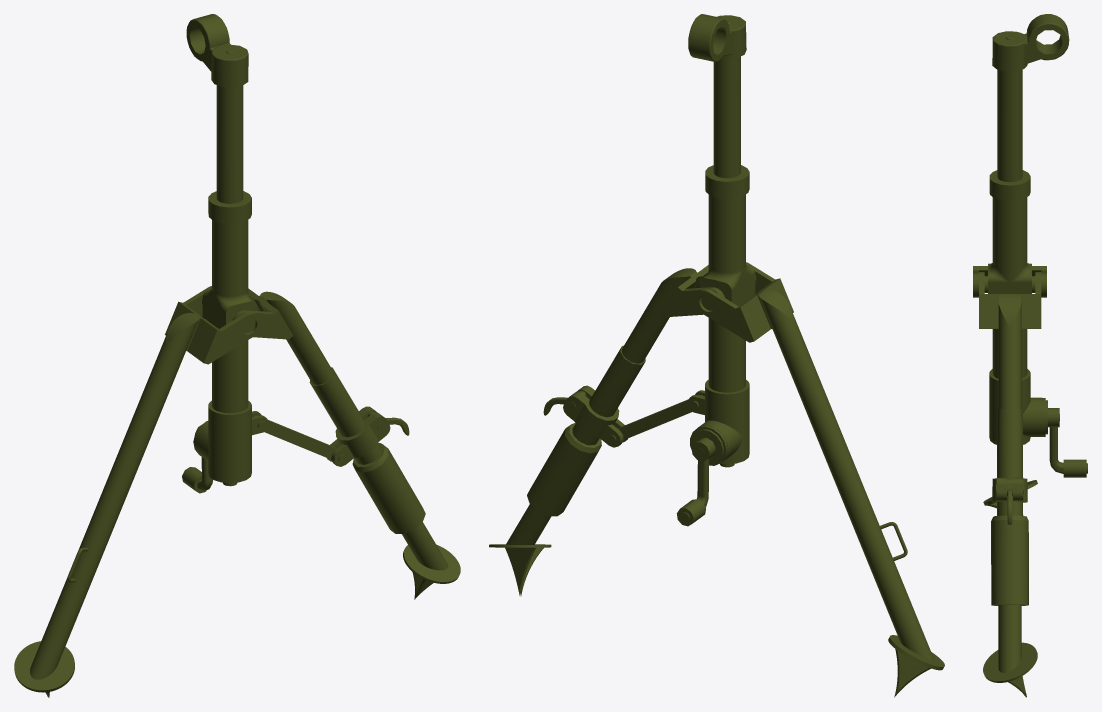
Rendered from CoCauTam.glb.
The picture shows the model from 3 angles, left to right: view 1: azimuth 30°, elevation 25°; view 2: azimuth 150°, elevation 25°; view 3: azimuth 270°, elevation 25°; orthographic projection. The views are drawn at different scales.
Visible parts, largest first — view 1: CoCauTam; view 2: CoCauTam; view 3: CoCauTam.
Part boxes in pixels (left/top/right/bottom): CoCauTam: left=14, top=14, right=460, bottom=697; CoCauTam: left=489, top=14, right=944, bottom=697; CoCauTam: left=973, top=14, right=1087, bottom=697.
Bounding box in the file's own units: 41.62 × 57.16 × 9.95.
